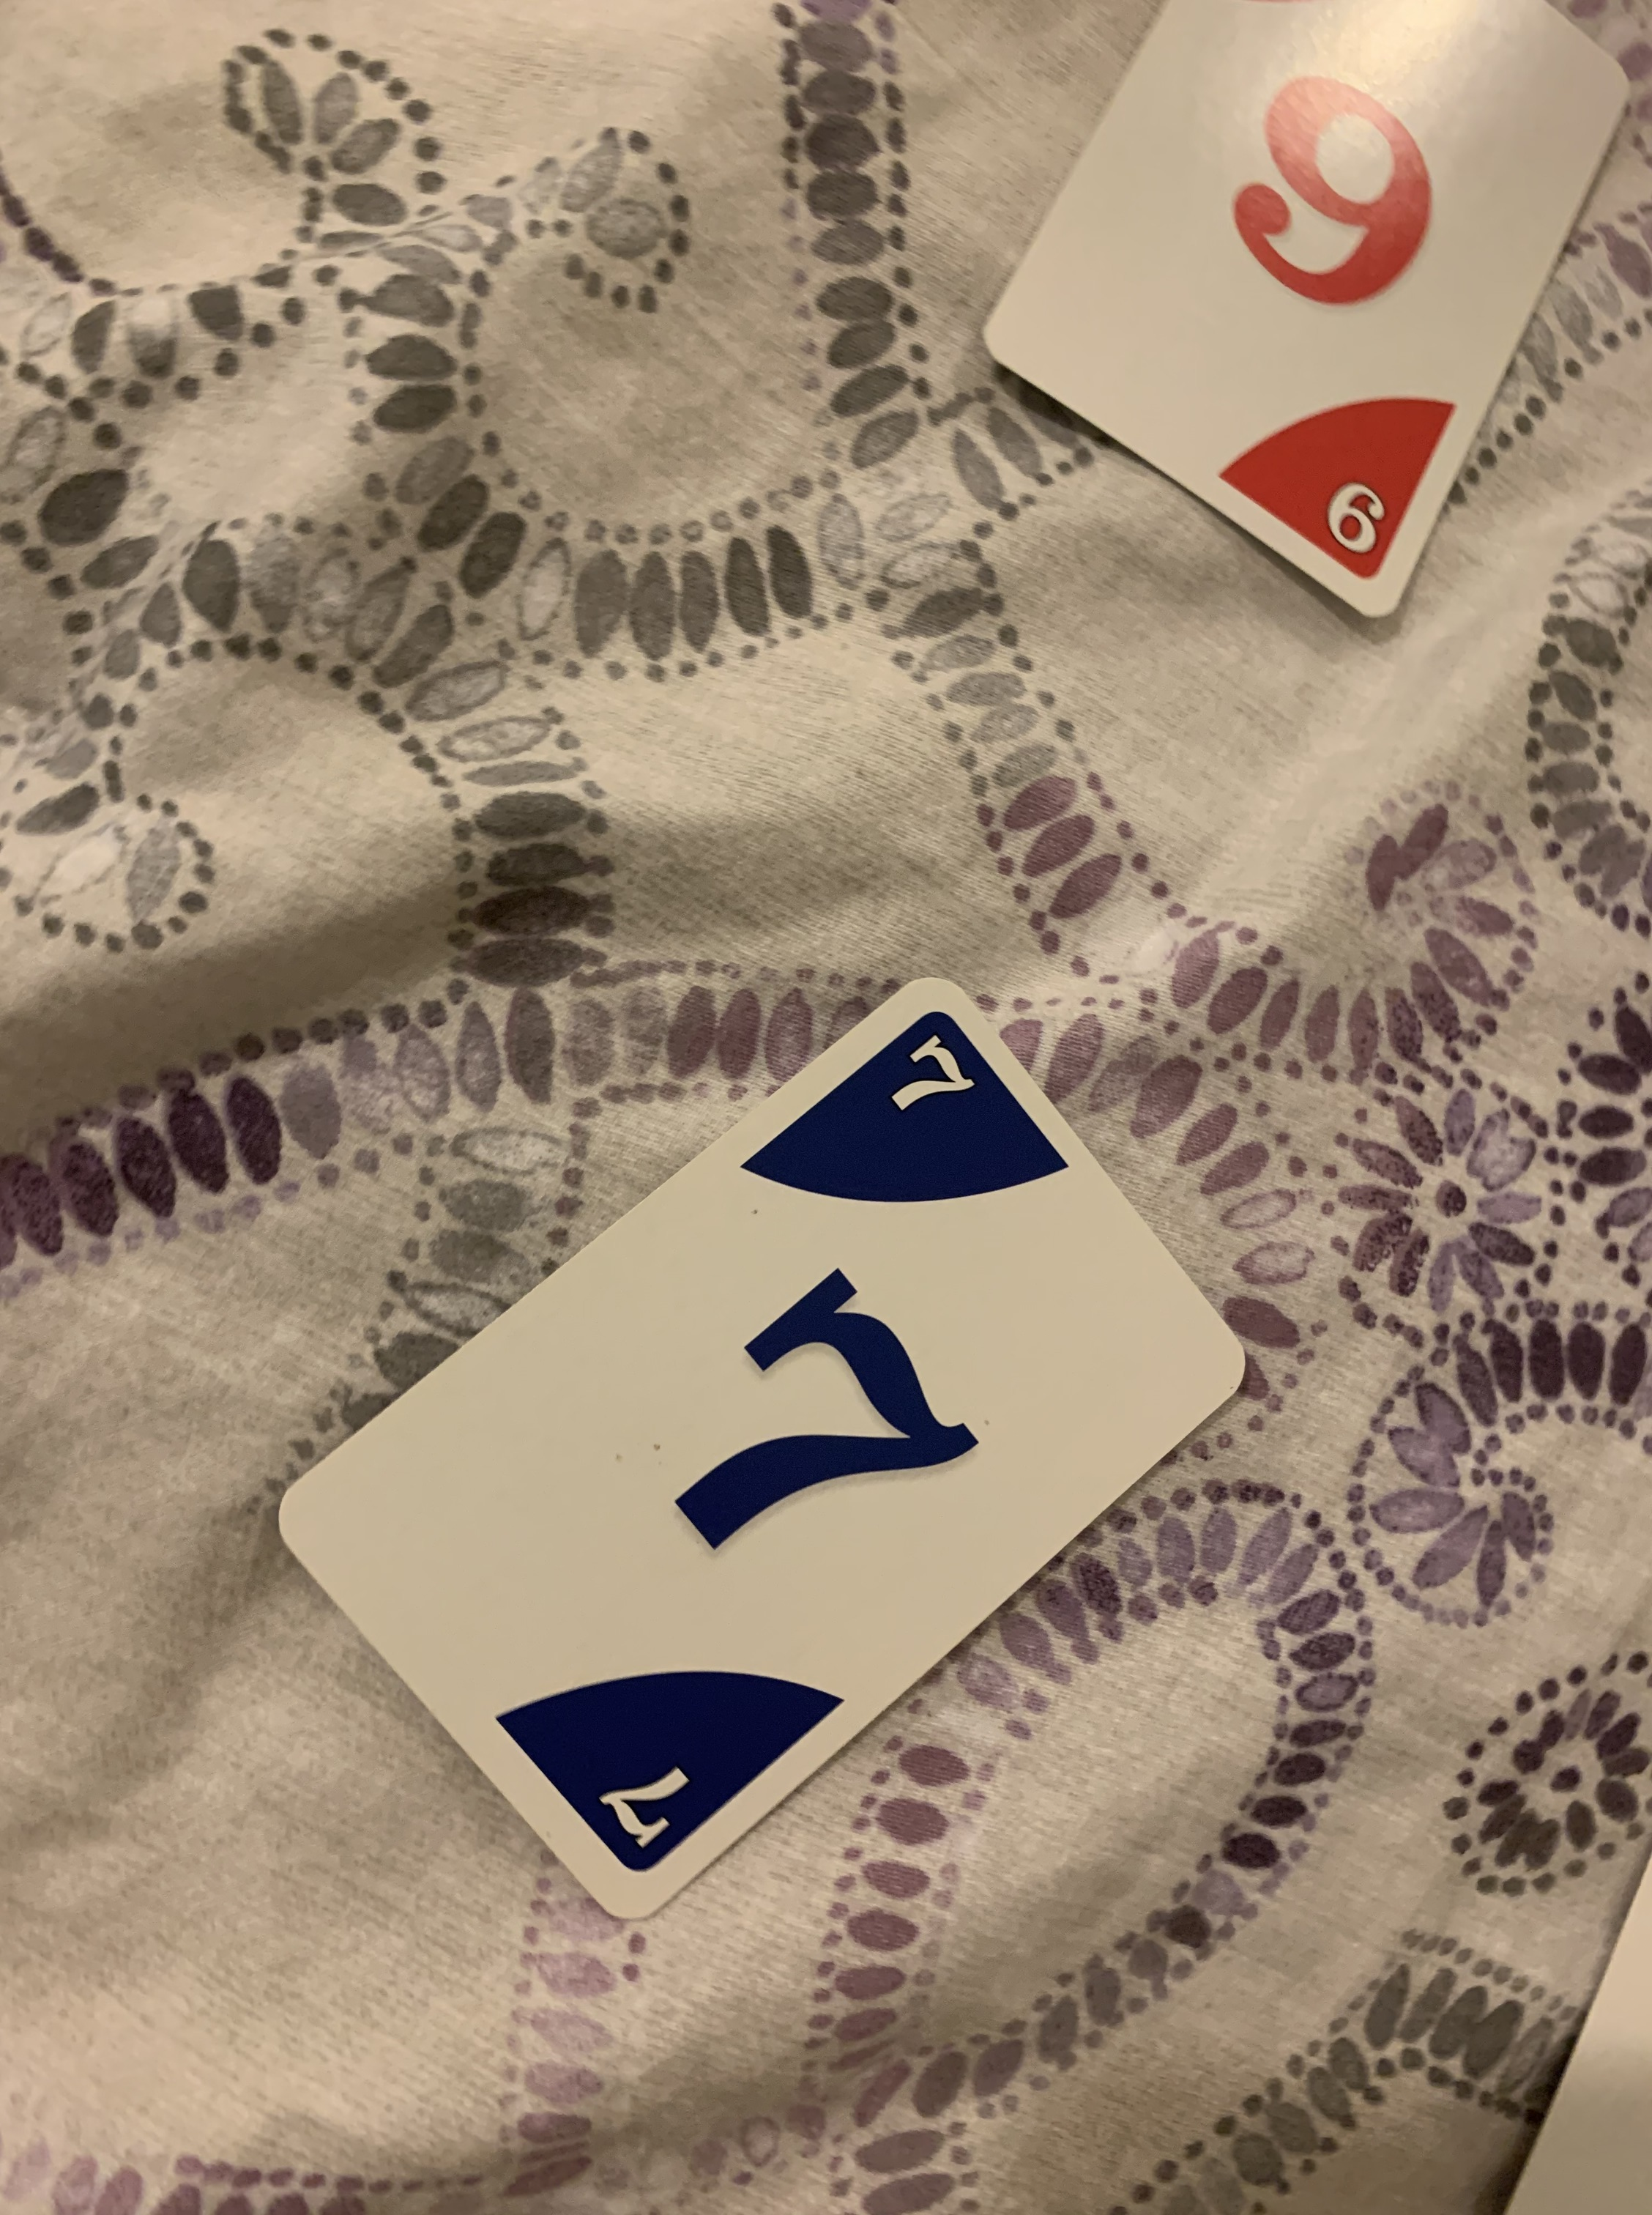nine: (977, 0, 1636, 621)
seven: (269, 967, 1246, 1920)
